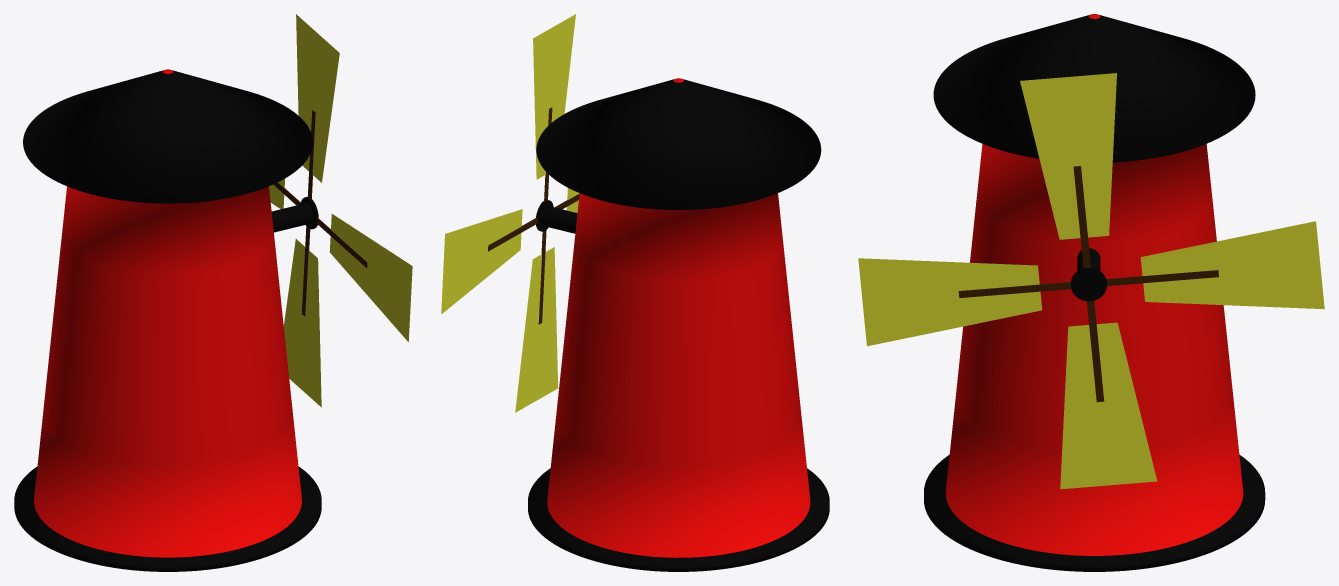
Rendered from enviroemnt-3.fbx.
3 views of the same model, side by side, from view 1: azimuth 30°, elevation 25°; view 2: azimuth 150°, elevation 25°; view 3: azimuth 270°, elevation 25° (orthographic). The views are drawn at different scales.
Visible parts, largest first — view 1: windmill, Plane.005, Plane.004, Plane.003, Cylinder, Plane, Plane.001; view 2: windmill, Plane.004, Plane.002, Plane.003, Cylinder, Plane, Plane.001; view 3: windmill, Plane.002, Plane.003, Plane.005, Plane.004, Plane.001, Plane, Cylinder.
Boxes of the visible parts, bbox=[...] form: windmill: bbox=[14, 69, 321, 571]; Plane.005: bbox=[329, 214, 412, 341]; Plane.004: bbox=[283, 239, 321, 407]; Plane.003: bbox=[296, 14, 339, 182]; Cylinder: bbox=[271, 197, 318, 232]; Plane: bbox=[301, 110, 315, 316]; Plane.001: bbox=[273, 182, 367, 267]; windmill: bbox=[528, 78, 829, 571]; Plane.004: bbox=[515, 247, 558, 412]; Plane.002: bbox=[441, 209, 522, 314]; Plane.003: bbox=[533, 14, 575, 179]; Cylinder: bbox=[536, 200, 577, 233]; Plane: bbox=[538, 107, 552, 324]; Plane.001: bbox=[488, 193, 579, 251]; windmill: bbox=[924, 14, 1265, 571]; Plane.002: bbox=[1140, 221, 1324, 309]; Plane.003: bbox=[1020, 73, 1116, 239]; Plane.005: bbox=[858, 258, 1042, 346]; Plane.004: bbox=[1060, 322, 1157, 489]; Plane.001: bbox=[958, 270, 1218, 297]; Plane: bbox=[1073, 166, 1104, 402]; Cylinder: bbox=[1070, 248, 1106, 301].
Bounding box in the file's own units: 235 × 372 × 313.
